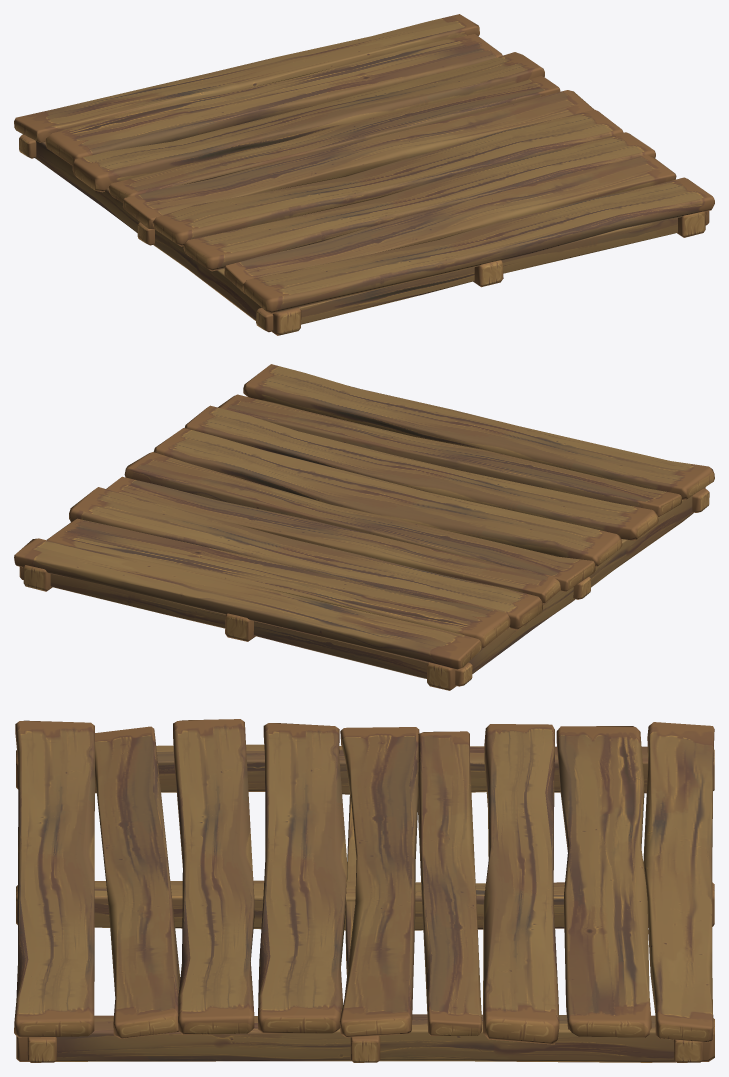
File: SM_MOD_floor_02_town.fbx
The picture shows the model from 3 angles, top to bottom: view 1: azimuth 30°, elevation 25°; view 2: azimuth 150°, elevation 25°; view 3: azimuth 270°, elevation 25°; orthographic projection. The views are drawn at different scales.
Parts seen in each view (by area): view 1: SM_MOD_floor_02_town_LOD0; view 2: SM_MOD_floor_02_town_LOD0; view 3: SM_MOD_floor_02_town_LOD0.
Part boxes in pixels (<box>): SM_MOD_floor_02_town_LOD0: <box>14,14,714,335</box>; SM_MOD_floor_02_town_LOD0: <box>14,364,714,690</box>; SM_MOD_floor_02_town_LOD0: <box>14,719,714,1062</box>.
Size of what is drawn, in the model's own units: 408 by 35.88 by 401.
